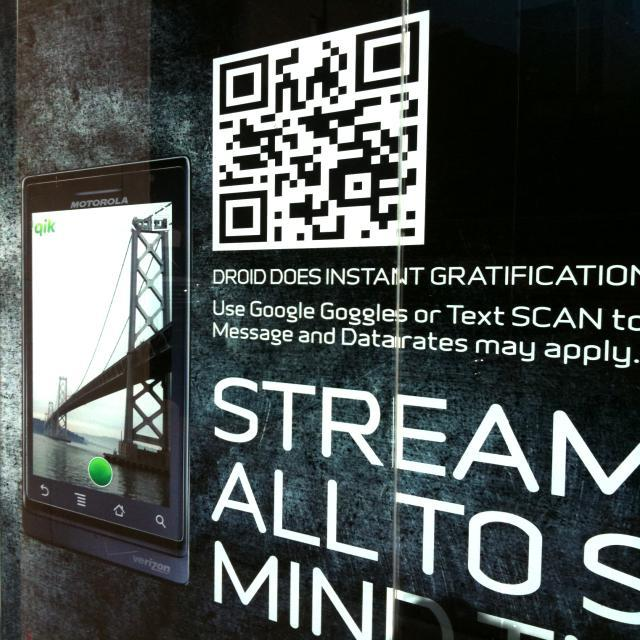qr-code: (219, 21, 419, 243)
